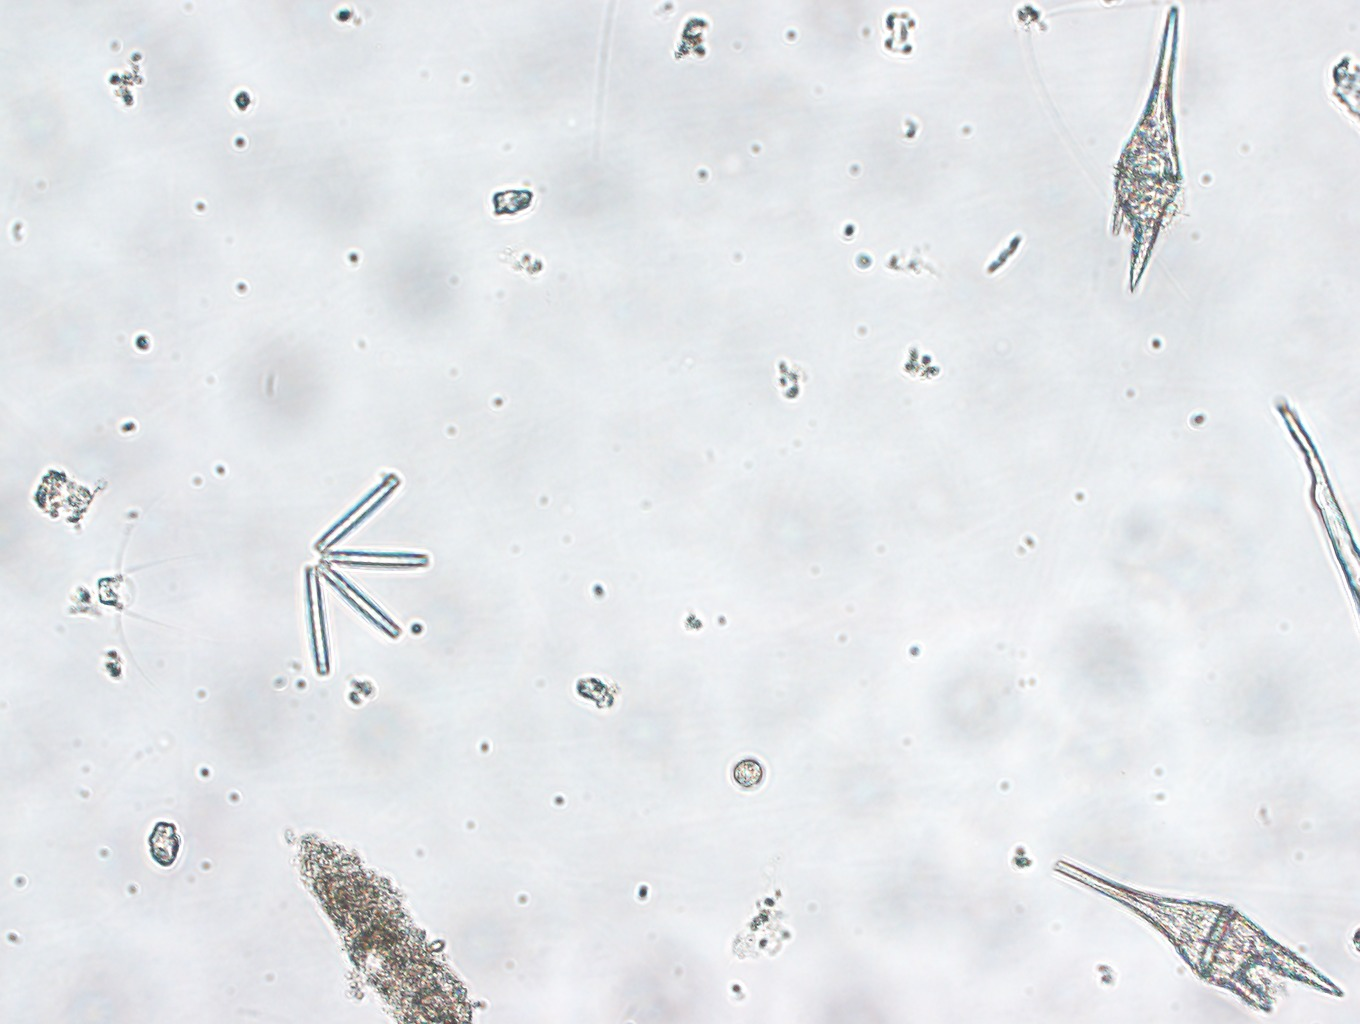ceratium furca: (1049, 856, 1360, 1020), (1105, 6, 1196, 297)
chaetoceros: (100, 522, 195, 673)
thalassionema nitzschioides: (287, 460, 428, 677)
